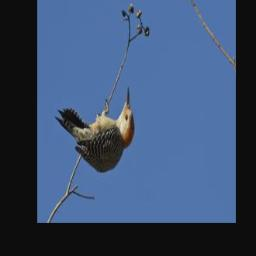Woodpecker: (53, 82, 142, 174)
